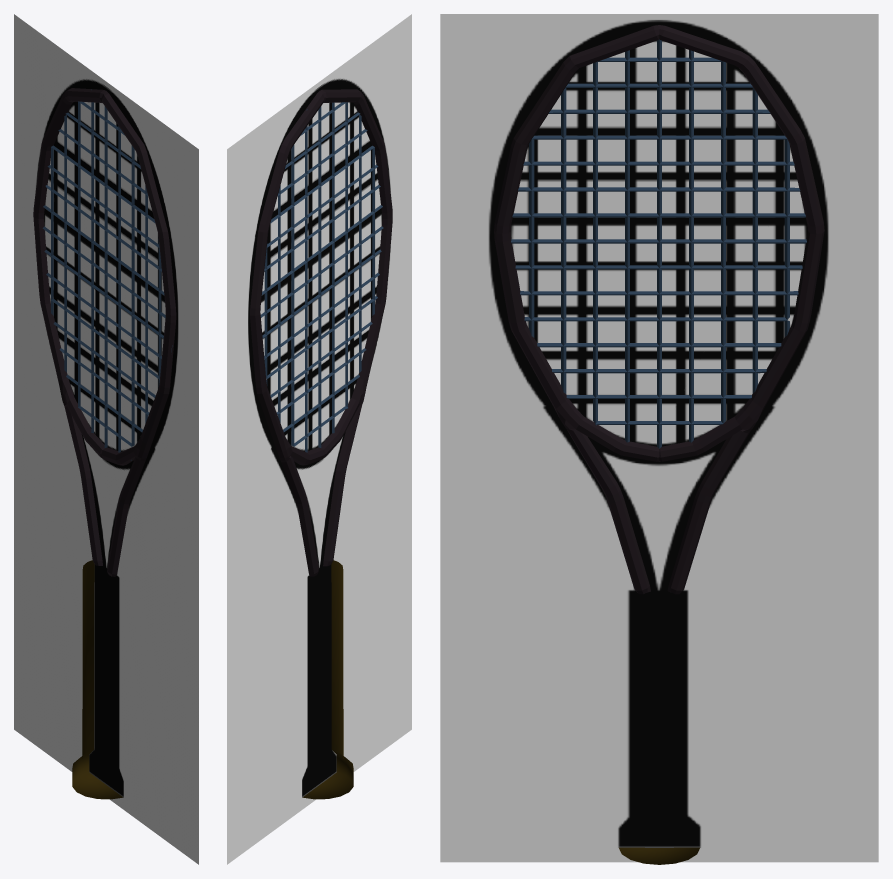
File: tennis racket1.fbx
3 renders of one model, left to right at view 1: azimuth 30°, elevation 25°; view 2: azimuth 150°, elevation 25°; view 3: azimuth 270°, elevation 25°, orthographic. The views are drawn at different scales.
Visible parts, largest first — view 1: Screenshot 2022-08-01 103320, Vert.002, Plane, Point.002; view 2: Screenshot 2022-08-01 103320, Vert.002, Plane, Point.002; view 3: Screenshot 2022-08-01 103320, Plane, Vert.002, Point.002.
Boxes of the visible parts, left/top/right/bottom form: Screenshot 2022-08-01 103320: left=14, top=14, right=198, bottom=864; Vert.002: left=33, top=88, right=176, bottom=576; Plane: left=42, top=89, right=172, bottom=460; Point.002: left=72, top=560, right=123, bottom=799; Screenshot 2022-08-01 103320: left=227, top=14, right=411, bottom=864; Vert.002: left=250, top=89, right=392, bottom=576; Plane: left=260, top=102, right=383, bottom=452; Point.002: left=302, top=560, right=353, bottom=799; Screenshot 2022-08-01 103320: left=440, top=14, right=878, bottom=862; Plane: left=511, top=39, right=806, bottom=448; Vert.002: left=494, top=25, right=824, bottom=594; Point.002: left=619, top=847, right=699, bottom=864.
Size of the model in its own units: 8.75 by 100 by 46.86.
Materials: 4 (1 with a texture image).
